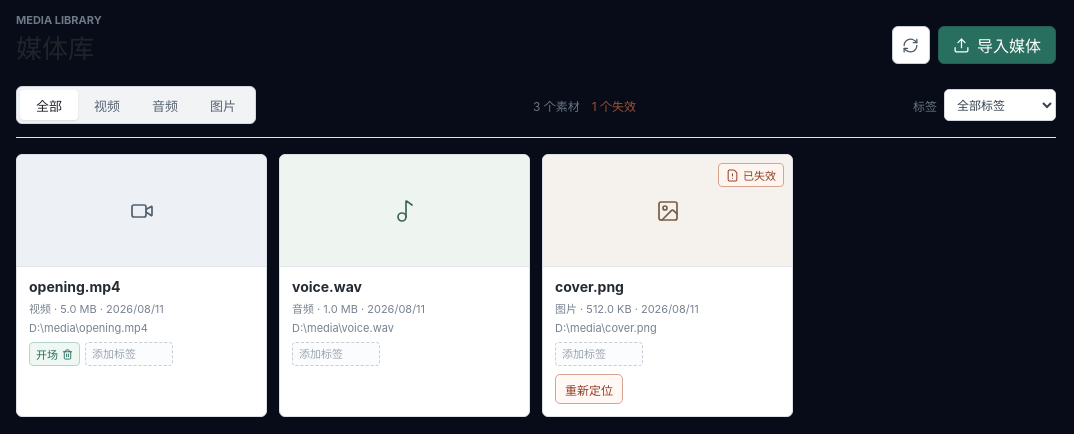
Scenario: MediaLibraryView › filters media by a selected tag
Select "开场" in the dropdown named "标签筛选": (1000,105) [944,89,1056,121]
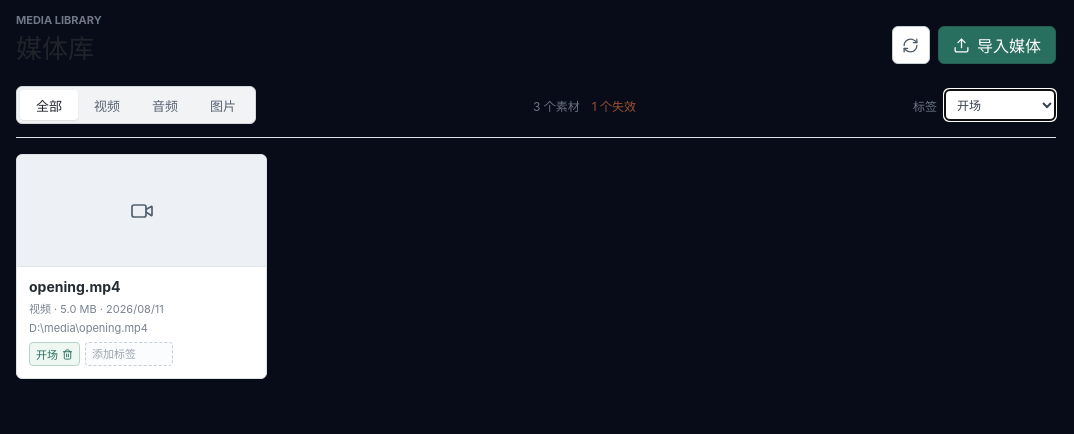
Expected: the text "opening.mp4" is shown, [29,278,121,295]
Now the text "voice.wav" is gone
